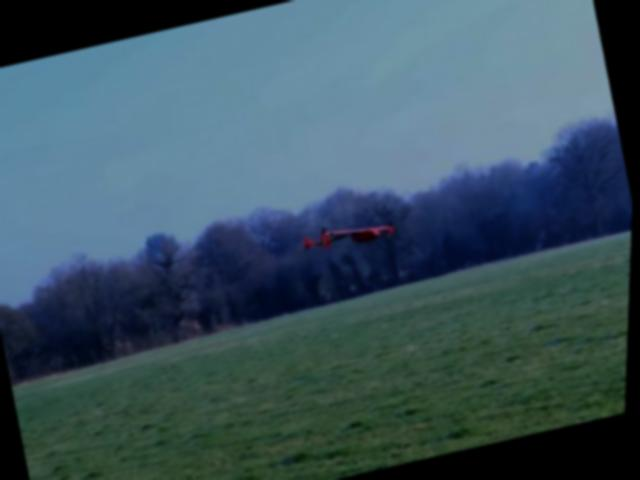uav: (302, 214, 401, 260)
